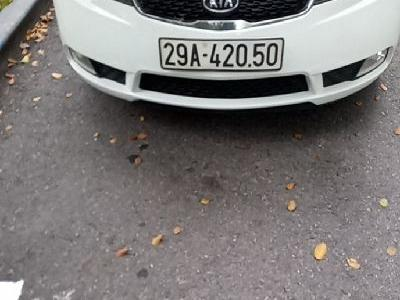lisence: (157, 36, 285, 73)
